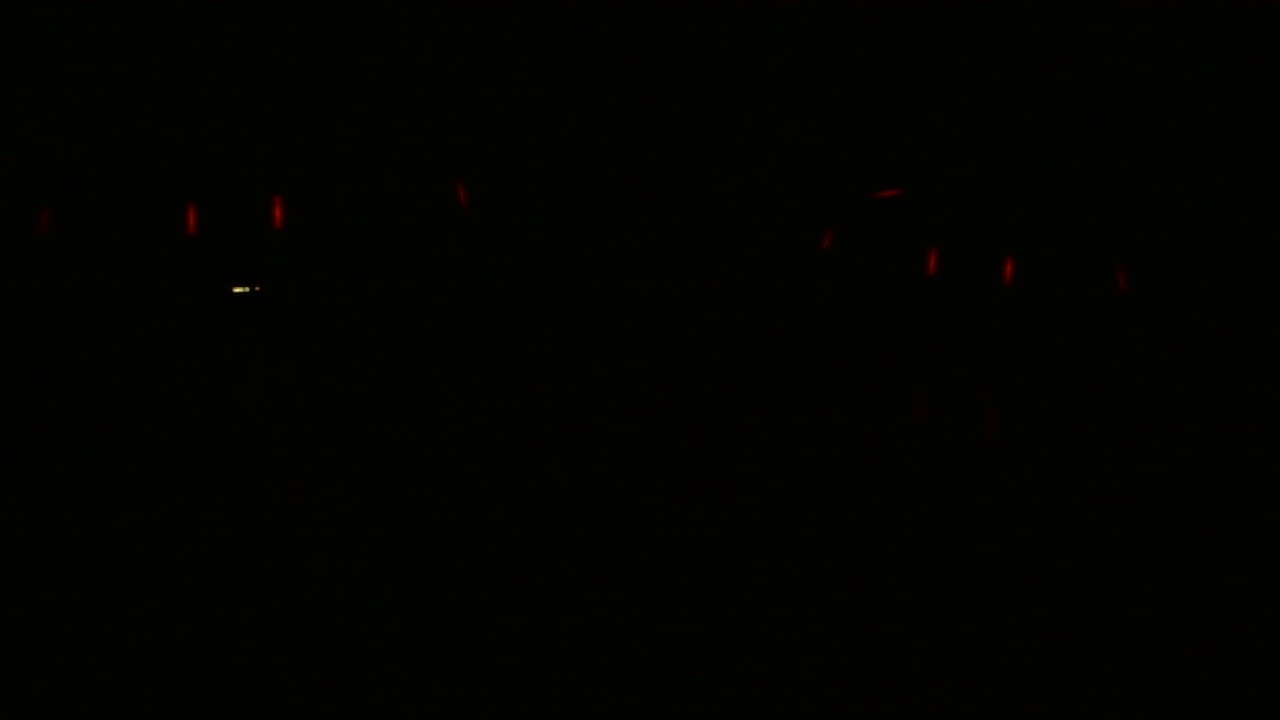pair1: (922, 241, 1016, 286), (180, 197, 293, 232)
